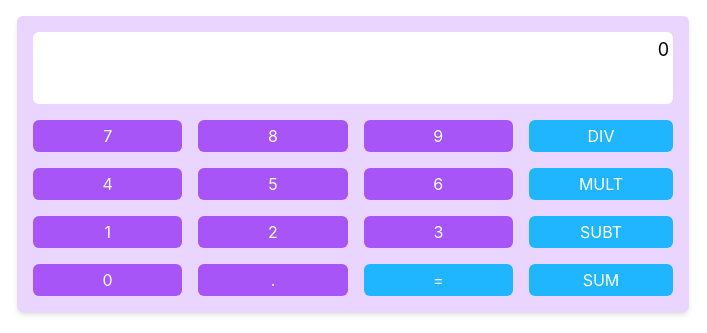
Test: Calculator › should sum two numbers
The width and height of the screenshot is (707, 333).
Click the button "2".
click(273, 232)  # box [198, 216, 348, 248]
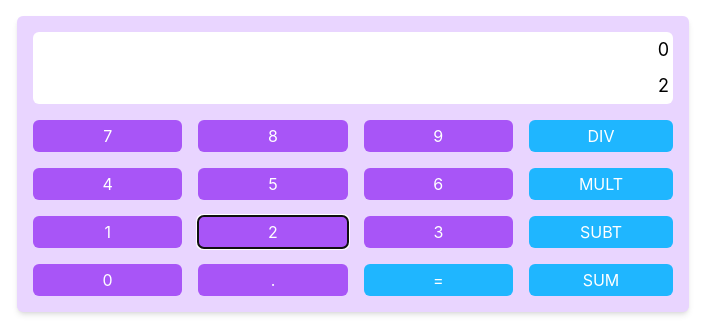
Click the button "SUM".
click(601, 280)  # box [529, 264, 673, 296]
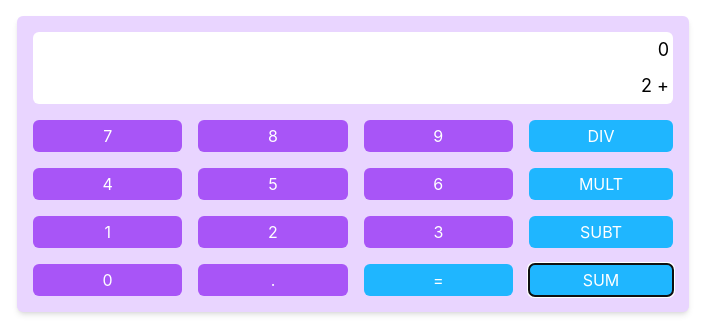
Click the button "3".
click(438, 232)  # box [364, 216, 513, 248]
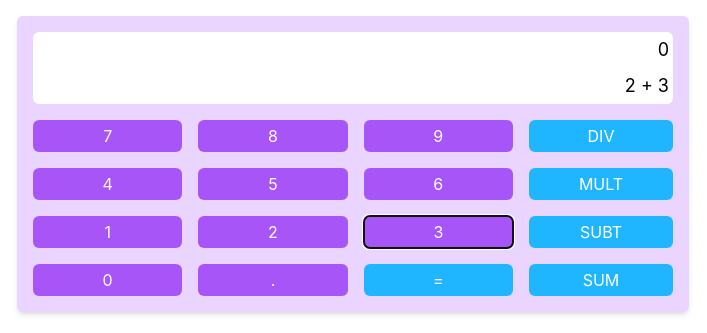
Now the 2nd field holds "2 + 3", box [33, 68, 673, 104]
Click the button "=".
click(438, 280)  # box [364, 264, 513, 296]
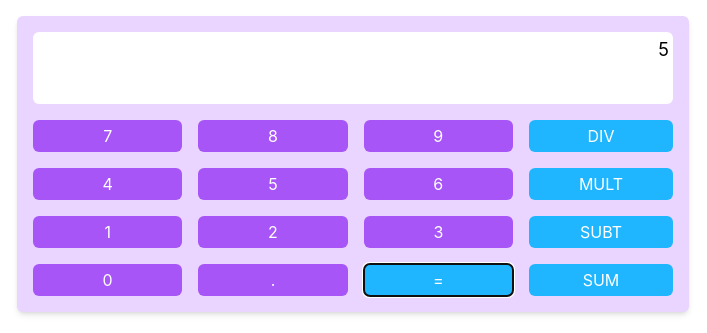
Now the 1st field holds "5", box [33, 32, 673, 68]
Now the 2nd field is empty, box [33, 68, 673, 104]
